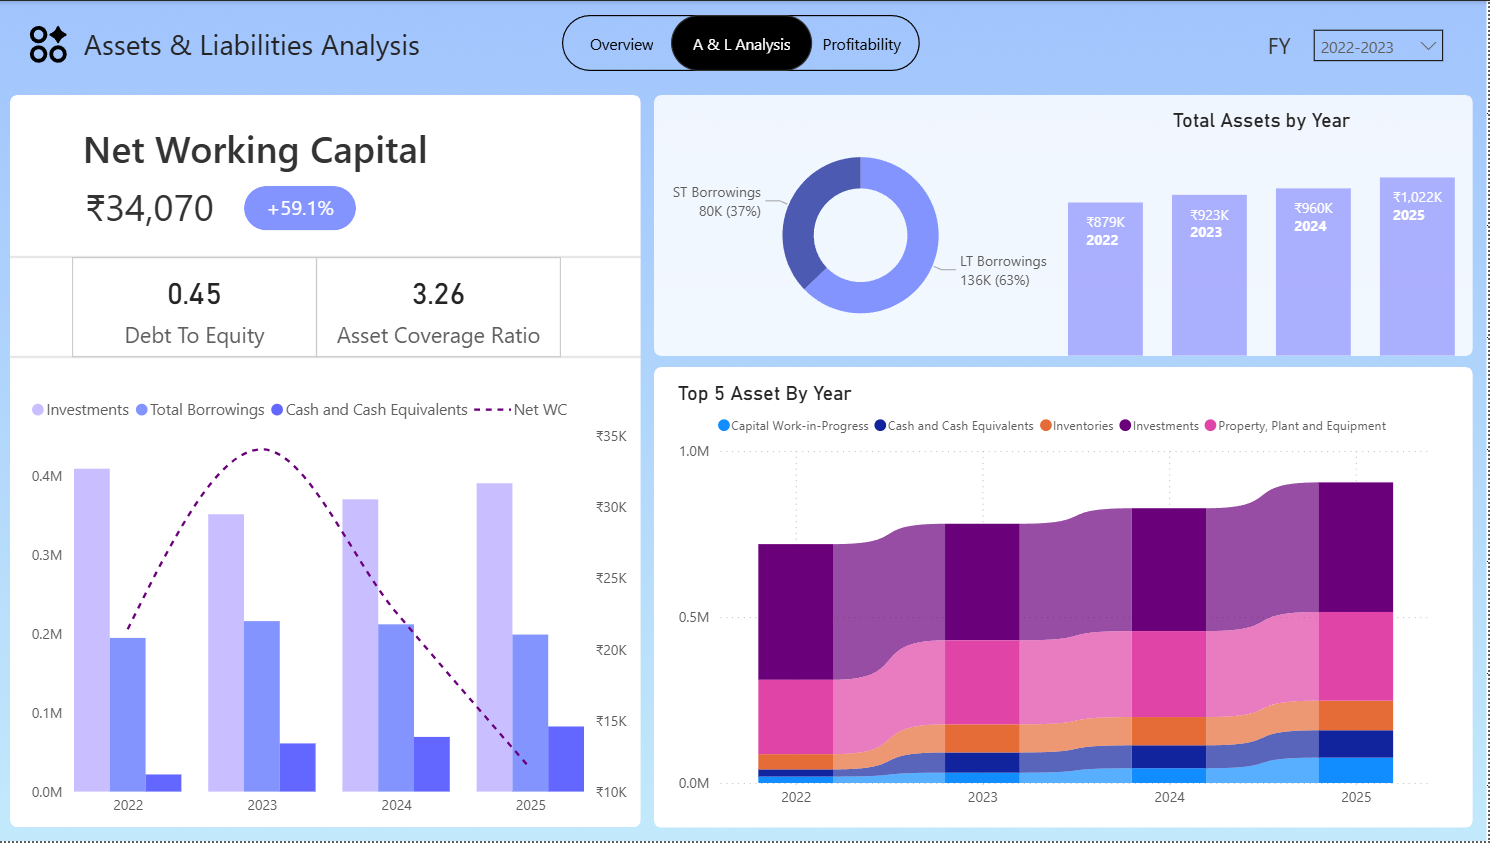

The page's visual inventory and layout, read from the dashboard file:
{"tool":"powerbi","page":{"name":"A & L Analysis","canvas":[1280,720],"ordinal":1},"visuals":[{"type":"image","box":[4.5,0,1275.2,720],"z":0},{"type":"shape","box":[487.2,11.8,306.7,48],"z":1000,"group":"g1"},{"type":"shape","box":[566,80.6,701.9,223.7],"z":1000},{"type":"actionButton","box":[486.3,11.8,104,48],"z":2000,"group":"g1"},{"type":"shape","box":[566,313.4,701.9,394.9],"z":2000},{"type":"slicer","fields":{"Values":["Date Dim.FY"]},"box":[1121.4,14.2,131,44.4],"z":3000},{"type":"actionButton","box":[580.5,11.8,120.9,48],"z":4000,"group":"g1"},{"type":"textbox","box":[72,15.1,355.6,44.4],"z":4000},{"type":"group","id":"g1","title":"Group 1","box":[486.3,11.8,307.6,48],"z":5000},{"type":"actionButton","box":[693.4,16.2,100.4,40],"z":6000,"group":"g1"},{"type":"shape","box":[13.6,80.6,540.7,627.6],"z":6000},{"type":"lineClusteredColumnComboChart","fields":{"Category":["Date Dim.Year"],"Y":["_Measures.Investments","_Measures.Total Borrowings","_Measures.Cash and Cash Equivalents"],"Y2":["_Ratios.Net Working Capital"]},"box":[26.6,330,521.1,378],"z":7000},{"type":"card","fields":{"Values":["_Ratios.Asset Coverage Ratio"]},"box":[276.2,219.2,210.1,86],"z":8000,"group":"g2"},{"type":"ribbonChart","title":"Top 5 Asset By Year","fields":{"Category":["Date Dim.Year"],"Series":["BS Item Dim.BS Item"],"Y":["Sum(BS Fact.Amt)"]},"box":[581.3,325.3,655.1,374.2],"z":8000},{"type":"donutChart","fields":{"Y":["_Measures.LT Borrowings","_Measures.ST Borrowings"]},"box":[566,108.7,354.1,183.8],"z":9000},{"type":"card","fields":{"Values":["_Ratios.Debt To Equity"]},"box":[67,219.2,210.1,86],"z":9000,"group":"g2"},{"type":"columnChart","fields":{"Y":["_Measures.Total Assets"],"Category":["Date Dim.Year"]},"box":[912,91.5,348.7,218.3],"z":10000},{"type":"card","fields":{"Values":["_Ratios.Net WC"]},"box":[68.9,153.9,129.5,46.2],"z":11000,"group":"g3"},{"type":"group","id":"g2","title":"Group 3","box":[67,219.2,419.3,86],"z":11000},{"type":"group","id":"g3","title":"Group 4","box":[68.9,98.7,333.3,102.3],"z":12000},{"type":"textbox","box":[71.6,98.7,330.6,55.2],"z":12000,"group":"g3"},{"type":"group","id":"g4","title":"Group 2","box":[211.1,155.8,103.2,45.3],"z":13000,"group":"g3"},{"type":"shape","box":[13.7,289.7,541.7,30.9],"z":13000},{"type":"shape","box":[214.6,158.5,96,38],"z":13500,"group":"g4"},{"type":"shape","box":[13.7,204,540.9,30.9],"z":14000},{"type":"textbox","box":[1075.9,20.8,51.6,39.8],"z":15000},{"type":"image","box":[26.7,16.9,40,40],"z":16000},{"type":"card","fields":{"Values":["_Ratios.Increase In Net WC"]},"box":[211.1,155.8,103.2,45.3],"z":16000,"group":"g4"}]}

Visuals, with their boxes in screenshot pixels (x1, y1, x2, y2), scaled from the page's 1280x720 canvas onto the 1490x843 screenshot:
image: 5 0 1489 842
shape: 567 14 924 70
shape: 659 94 1476 356
actionButton: 566 14 687 70
shape: 659 367 1476 829
slicer - Date Dim.FY: 1305 17 1458 69
actionButton: 676 14 816 70
textbox: 84 18 498 70
"Group 1" group: 566 14 924 70
actionButton: 807 19 924 66
shape: 16 94 645 829
lineClusteredColumnComboChart - Date Dim.Year x _Measures.Investments: 31 386 638 829
card - _Ratios.Asset Coverage Ratio: 322 257 566 357
"Top 5 Asset By Year" ribbonChart: 677 381 1439 819
donutChart - _Measures.LT Borrowings x _Measures.ST Borrowings: 659 127 1071 342
card - _Ratios.Debt To Equity: 78 257 323 357
columnChart - _Measures.Total Assets x Date Dim.Year: 1062 107 1468 363
card - _Ratios.Net WC: 80 180 231 234
"Group 3" group: 78 257 566 357
"Group 4" group: 80 116 468 235
textbox: 83 116 468 180
"Group 2" group: 246 182 366 235
shape: 16 339 647 375
shape: 250 186 362 230
shape: 16 239 646 275
textbox: 1252 24 1312 71
image: 31 20 78 67
card - _Ratios.Increase In Net WC: 246 182 366 235
